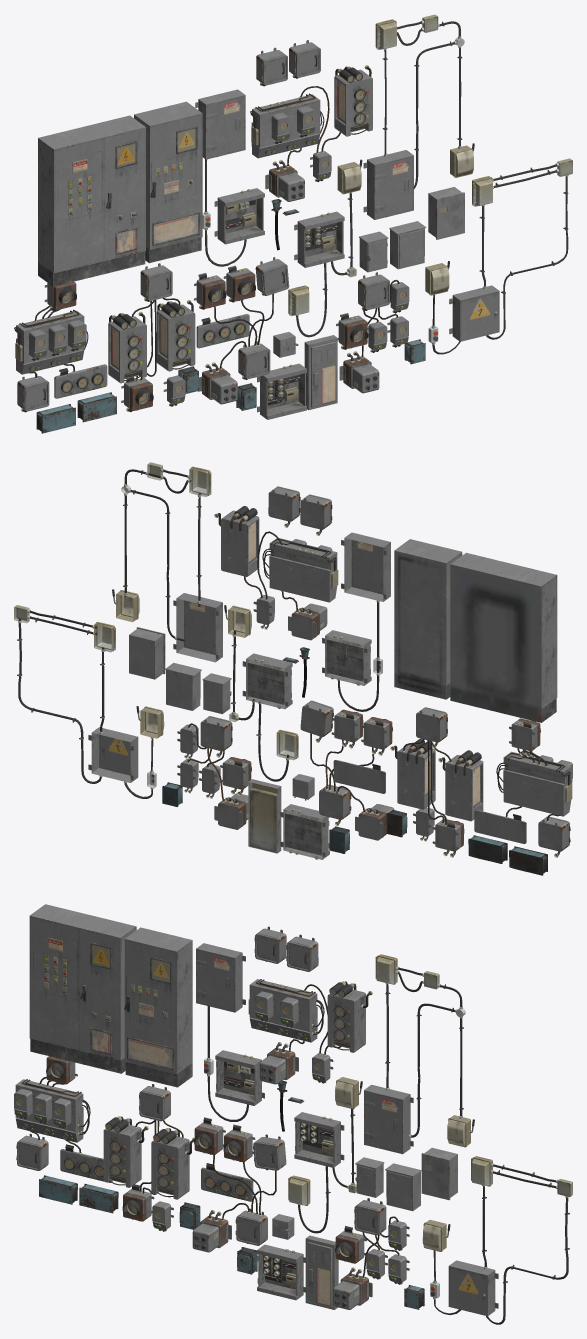
The model's file is ElectricalBoxPKG.fbx.
3 renders of one model, top to bottom at view 1: azimuth 30°, elevation 25°; view 2: azimuth 150°, elevation 25°; view 3: azimuth 330°, elevation 25°, orthographic.
Parts seen in each view (by area): view 1: SM_ElectricalBox_Large_B.mo, SM_WallCounters_A.mo, SM_ElectricalBox_Large_A.mo, SM_WallCounters_D.mo, SM_WallCounters_E.mo, SM_WallCounters_B.mo, SM_ElectricalBox_Group_A.mo, SM_ElectricalBox_Group_D.mo, SM_ElectricalBox_Group_B.mo, SM_WallCounters_C.mo, SM_ElectricalBox_Group_C.mo, SM_Fusebox_A.mo (+6 smaller); view 2: SM_ElectricalBox_Large_B.mo, SM_WallCounters_A.mo, SM_ElectricalBox_Large_A.mo, SM_WallCounters_D.mo, SM_WallCounters_E.mo, SM_WallCounters_B.mo, SM_ElectricalBox_Group_A.mo, SM_ElectricalBox_Group_D.mo, SM_ElectricalBox_Group_B.mo, SM_WallCounters_C.mo, SM_ElectricalBox_Group_C.mo, SM_Fusebox_A.mo (+8 smaller); view 3: SM_ElectricalBox_Large_B.mo, SM_ElectricalBox_Large_A.mo, SM_WallCounters_A.mo, SM_WallCounters_D.mo, SM_WallCounters_B.mo, SM_WallCounters_E.mo, SM_ElectricalBox_Group_A.mo, SM_ElectricalBox_Group_D.mo, SM_ElectricalBox_Group_B.mo, SM_WallCounters_C.mo, SM_ElectricalBox_Group_C.mo, SM_ElectricalBox_E.mo (+6 smaller).
Part boxes in pixels (x1=…): SM_ElectricalBox_Large_B.mo: x1=38, y1=115, x2=145, y2=286; SM_WallCounters_A.mo: x1=250, y1=40, x2=372, y2=201; SM_ElectricalBox_Large_A.mo: x1=134, y1=101, x2=202, y2=263; SM_WallCounters_D.mo: x1=108, y1=263, x2=195, y2=412; SM_WallCounters_E.mo: x1=14, y1=281, x2=107, y2=412; SM_WallCounters_B.mo: x1=194, y1=257, x2=289, y2=404; SM_ElectricalBox_Group_A.mo: x1=363, y1=14, x2=474, y2=219; SM_ElectricalBox_Group_D.mo: x1=195, y1=89, x2=264, y2=266; SM_ElectricalBox_Group_B.mo: x1=425, y1=158, x2=572, y2=354; SM_WallCounters_C.mo: x1=336, y1=272, x2=409, y2=393; SM_ElectricalBox_Group_C.mo: x1=288, y1=159, x2=362, y2=337; SM_Fusebox_A.mo: x1=304, y1=335, x2=337, y2=410; SM_ElectricalBox_Large_B.mo: x1=450, y1=552, x2=557, y2=722; SM_WallCounters_A.mo: x1=214, y1=486, x2=338, y2=640; SM_ElectricalBox_Large_A.mo: x1=394, y1=539, x2=462, y2=699; SM_WallCounters_D.mo: x1=390, y1=707, x2=483, y2=857; SM_WallCounters_E.mo: x1=474, y1=718, x2=572, y2=857; SM_WallCounters_B.mo: x1=300, y1=700, x2=394, y2=840; SM_ElectricalBox_Group_A.mo: x1=112, y1=462, x2=222, y2=662; SM_ElectricalBox_Group_D.mo: x1=322, y1=532, x2=390, y2=711; SM_ElectricalBox_Group_B.mo: x1=14, y1=605, x2=164, y2=798; SM_WallCounters_C.mo: x1=177, y1=716, x2=251, y2=829; SM_ElectricalBox_Group_C.mo: x1=224, y1=605, x2=298, y2=781; SM_Fusebox_A.mo: x1=248, y1=779, x2=281, y2=853; SM_ElectricalBox_Large_B.mo: x1=29, y1=904, x2=136, y2=1073; SM_ElectricalBox_Large_A.mo: x1=124, y1=927, x2=192, y2=1087; SM_WallCounters_A.mo: x1=248, y1=926, x2=372, y2=1084; SM_WallCounters_D.mo: x1=103, y1=1084, x2=194, y2=1231; SM_WallCounters_B.mo: x1=192, y1=1117, x2=286, y2=1252; SM_WallCounters_E.mo: x1=14, y1=1056, x2=112, y2=1182; SM_ElectricalBox_Group_A.mo: x1=364, y1=954, x2=474, y2=1154; SM_ElectricalBox_Group_D.mo: x1=196, y1=943, x2=264, y2=1121; SM_ElectricalBox_Group_B.mo: x1=422, y1=1156, x2=572, y2=1324; SM_WallCounters_C.mo: x1=333, y1=1198, x2=409, y2=1309; SM_ElectricalBox_Group_C.mo: x1=288, y1=1077, x2=362, y2=1233; SM_ElectricalBox_E.mo: x1=257, y1=1244, x2=305, y2=1300.
Bounding box in the file's own units: 846 × 533 × 58.61.
